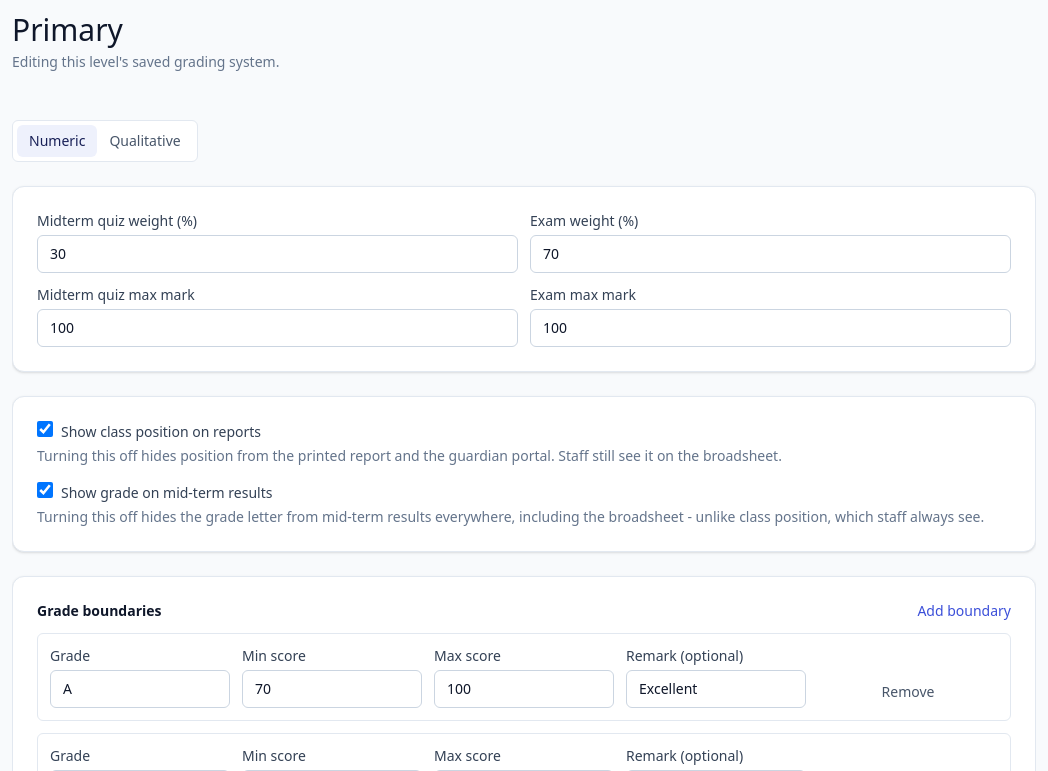
Test: GradingSystemEditorPage › toggling the mode swaps between the boundary editor and the rating-scale editor
Expected: the heading "Grade boundaries" is shown, [37, 601, 162, 621]
Expected: the text "Rating scale" is not shown
Click the button "Qualitative" at (145, 141), box [97, 125, 193, 157]
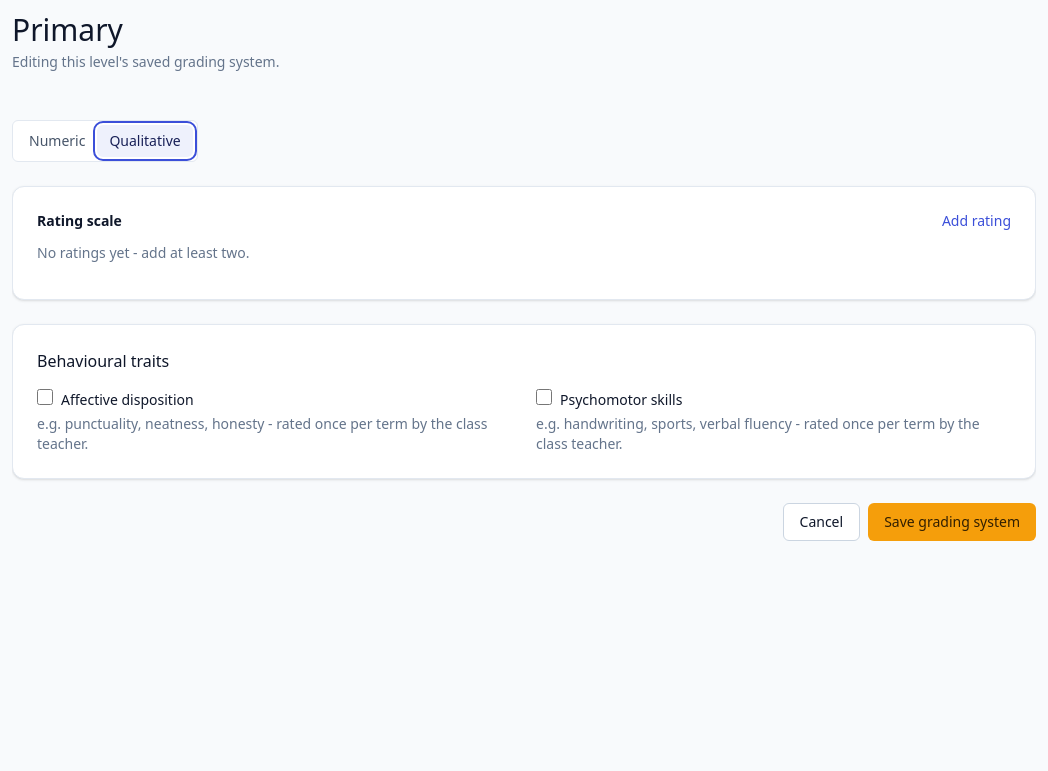
Expected: the heading "Rating scale" is shown, [37, 211, 122, 231]
Expected: the heading "Grade boundaries" is gone
